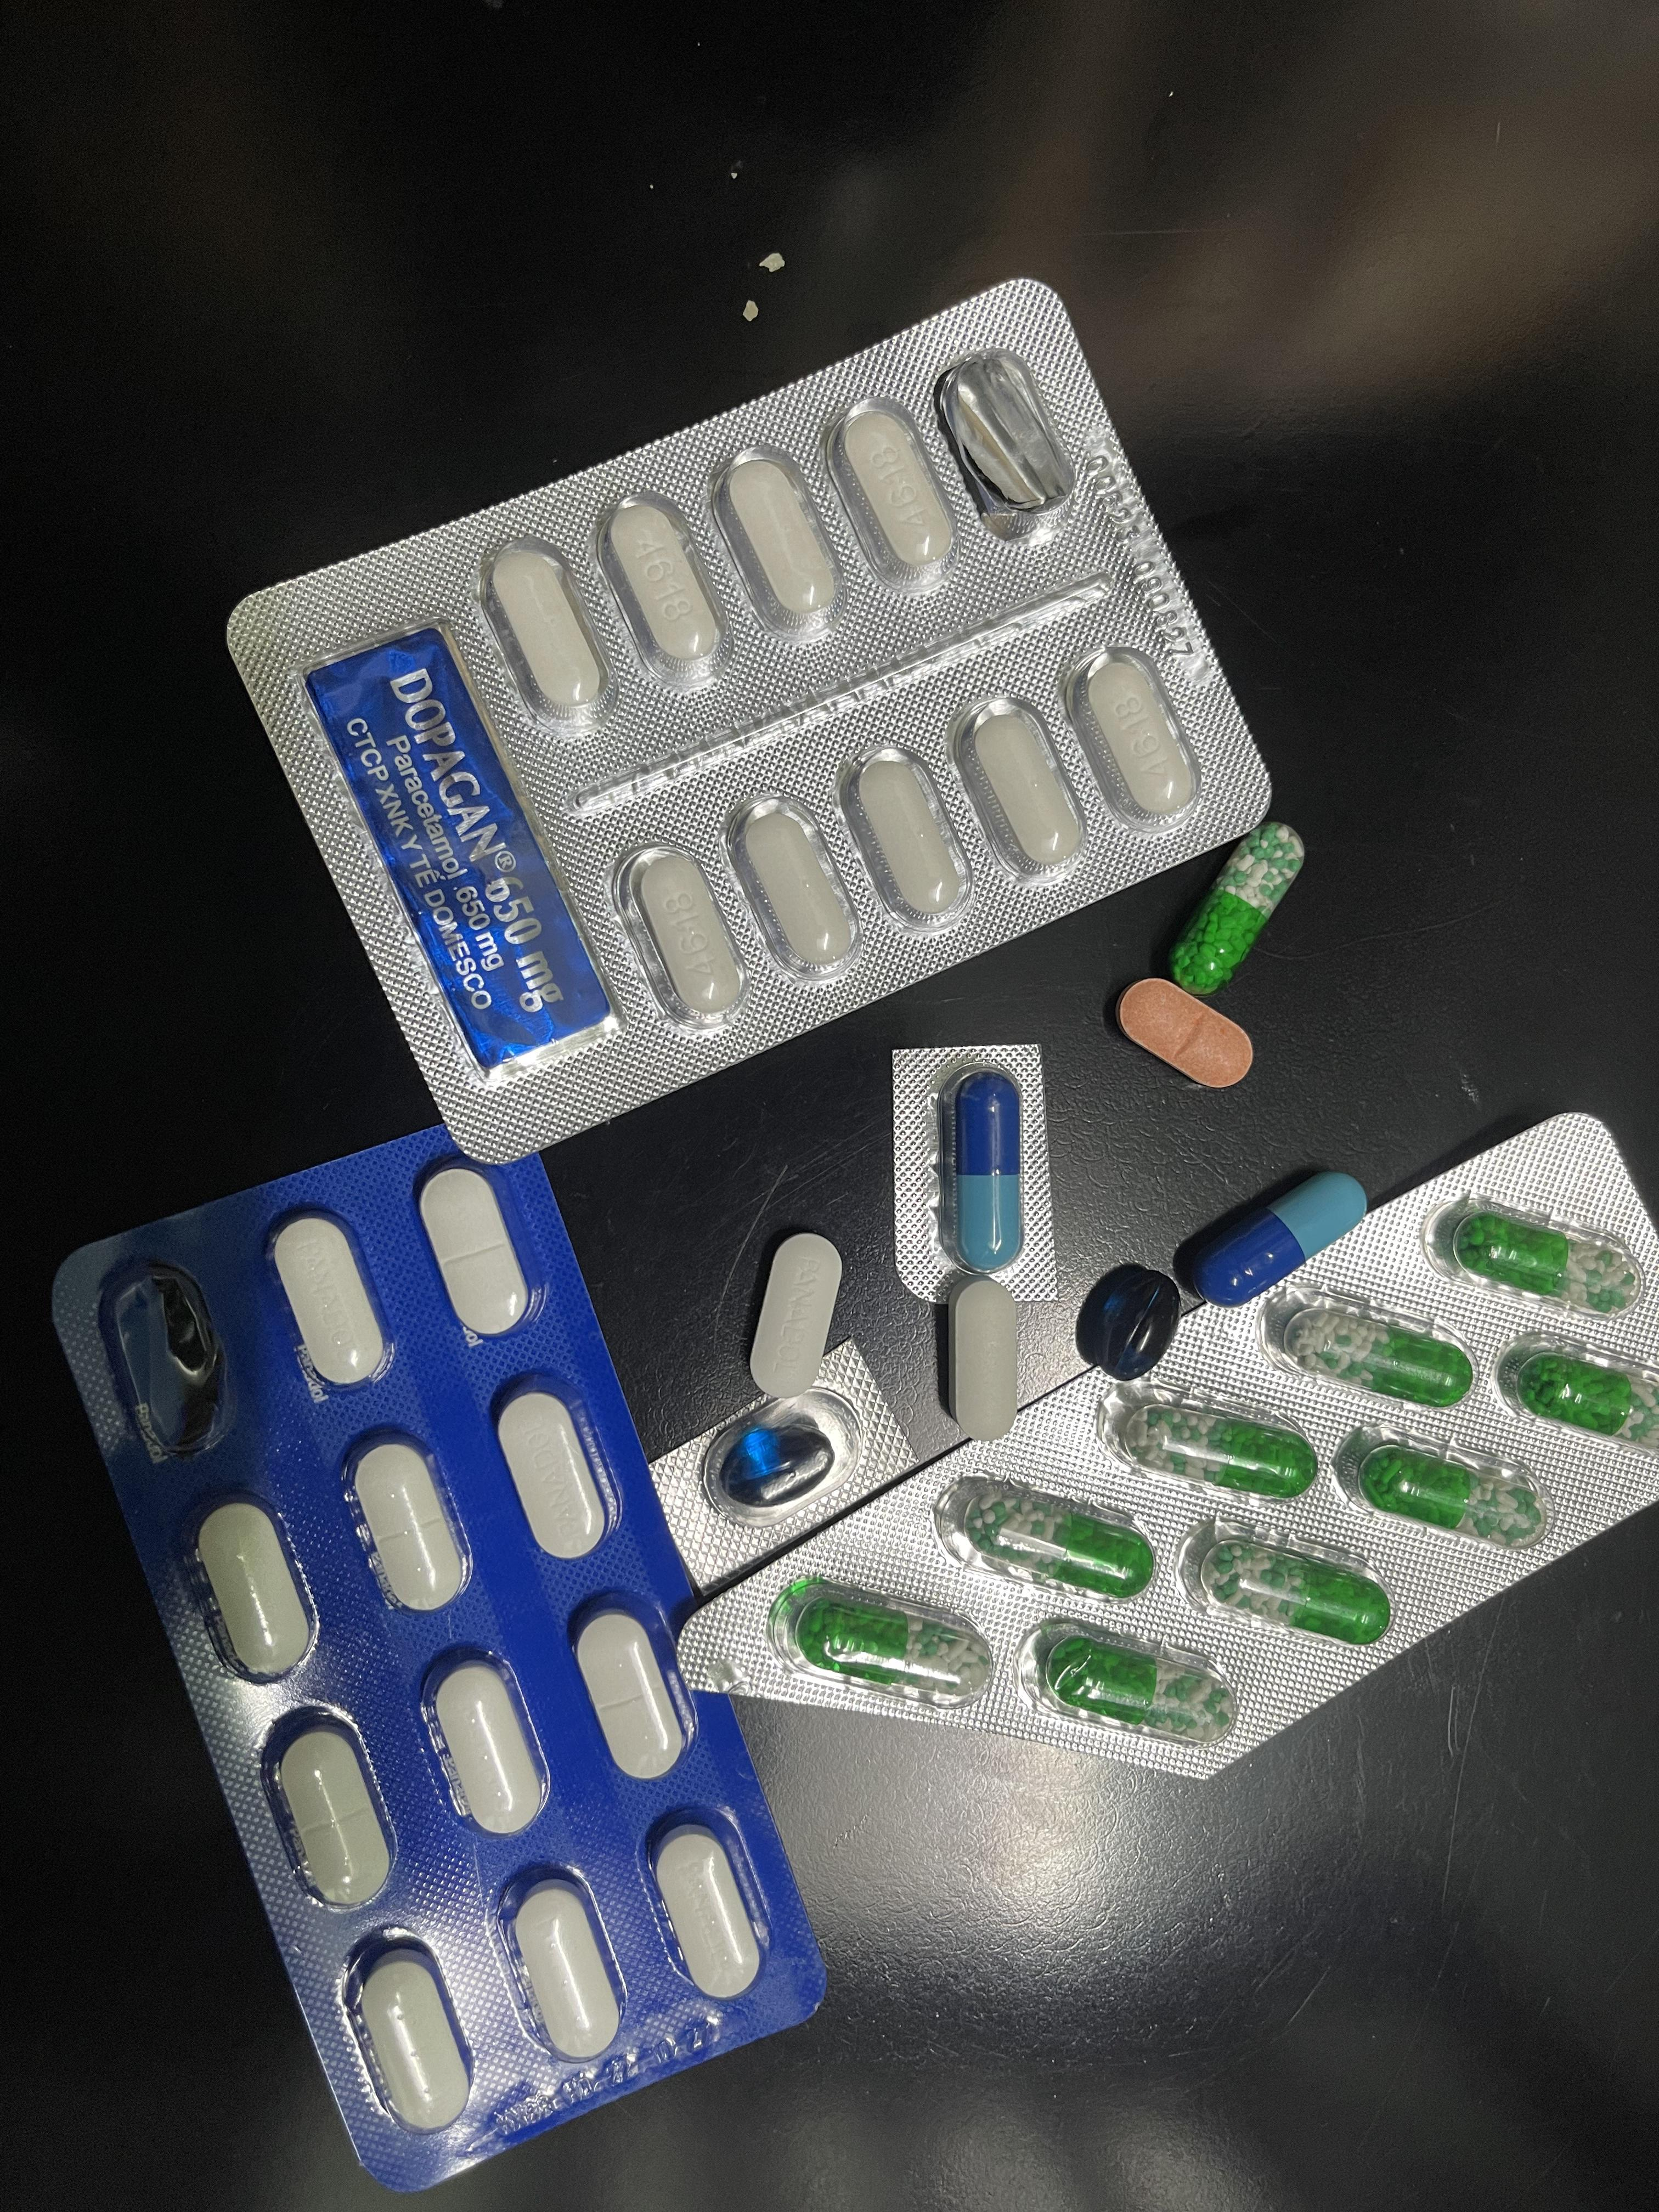Lincomyxin_500mg: (1074, 1265, 1179, 1379), (720, 1423, 833, 1506)
Loratadine_10mg: (1117, 980, 1253, 1086)
Paracetamol_350mg: (348, 1943, 474, 2133), (344, 1430, 471, 1613), (194, 1497, 317, 1680), (273, 1722, 394, 1907), (427, 1653, 550, 1833), (507, 1876, 626, 2062), (647, 1818, 766, 2002), (572, 1601, 691, 1781), (268, 1212, 390, 1389), (495, 1380, 612, 1562), (417, 1166, 531, 1340), (747, 1236, 842, 1406)
Paracetamol_500mg: (825, 397, 956, 596), (951, 692, 1088, 884), (611, 840, 750, 1027), (711, 444, 843, 640), (478, 540, 613, 731), (595, 495, 726, 690), (839, 746, 972, 937), (726, 795, 857, 989), (1065, 645, 1196, 832), (947, 1276, 1022, 1441)
Paracetamol_650mg: (1334, 1428, 1545, 1553), (943, 1474, 1148, 1600), (1024, 1619, 1234, 1742), (773, 1577, 975, 1705), (1166, 826, 1303, 996), (1497, 1330, 1659, 1457), (1199, 1540, 1387, 1644), (1454, 1211, 1639, 1312), (1297, 1312, 1472, 1406), (1137, 1411, 1315, 1497)
pill: (1180, 1169, 1367, 1307), (943, 1070, 1023, 1262)
